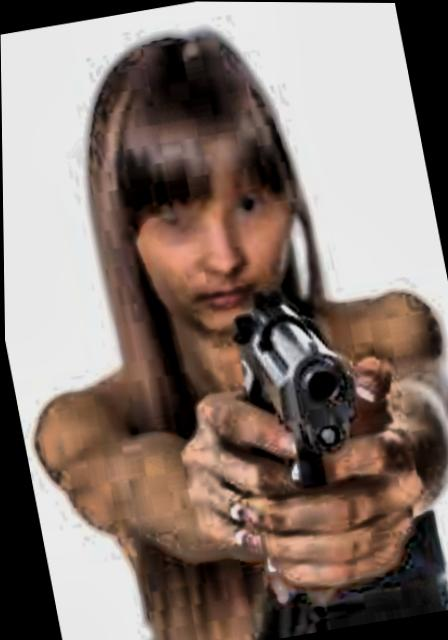pistol: (213, 270, 397, 612)
